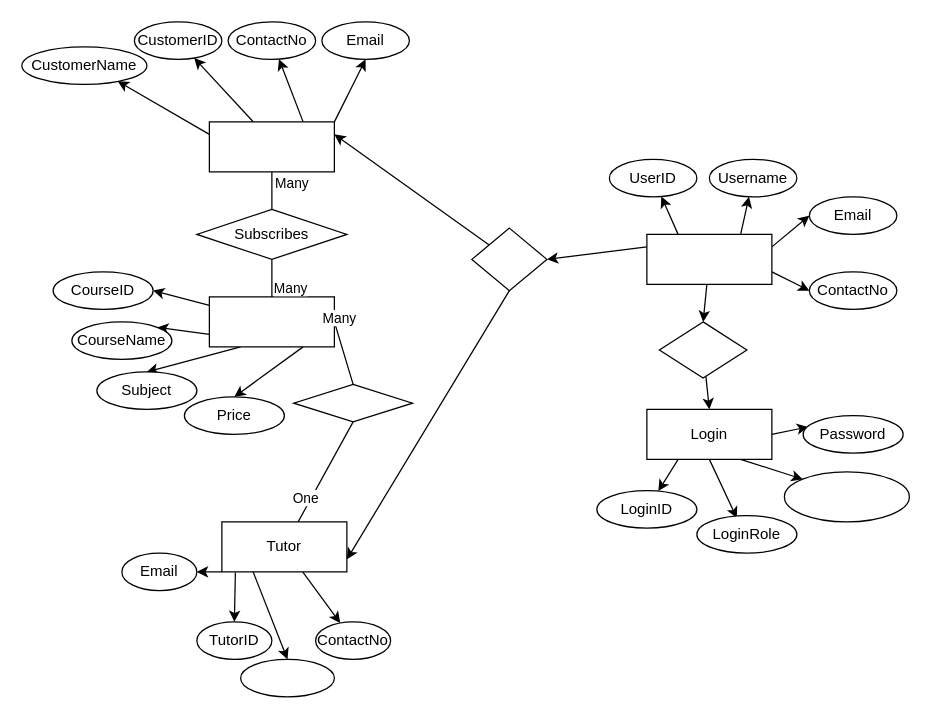
This 931x719 diagram has some shape labels left out. Here are the shapes that lost their labels. From the top down, the box of each, then its label:
(208, 121, 334, 172): Customer
(471, 227, 547, 291): IS
(646, 233, 772, 284): User
(208, 296, 334, 347): Course
(658, 321, 747, 378): Performs
(292, 383, 412, 422): Teaches
(783, 471, 909, 522): LoginUserName
(239, 658, 334, 697): TutorName
